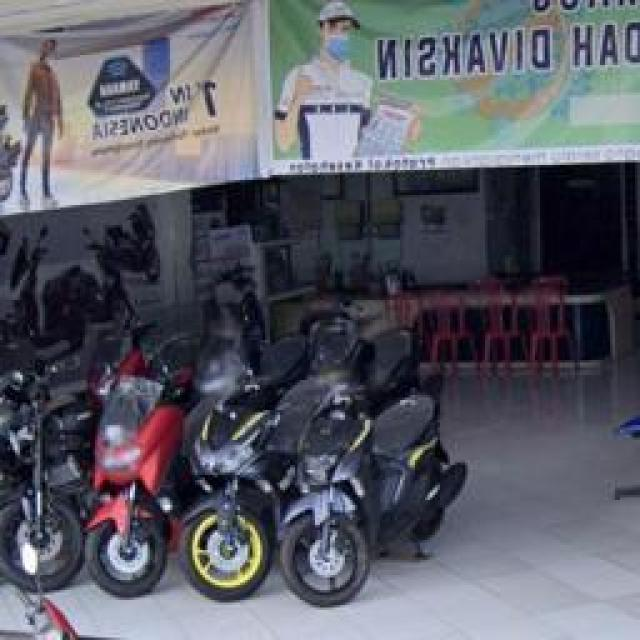motorcycle: (280, 322, 468, 608), (180, 358, 305, 602), (88, 354, 200, 598), (2, 348, 88, 590)
